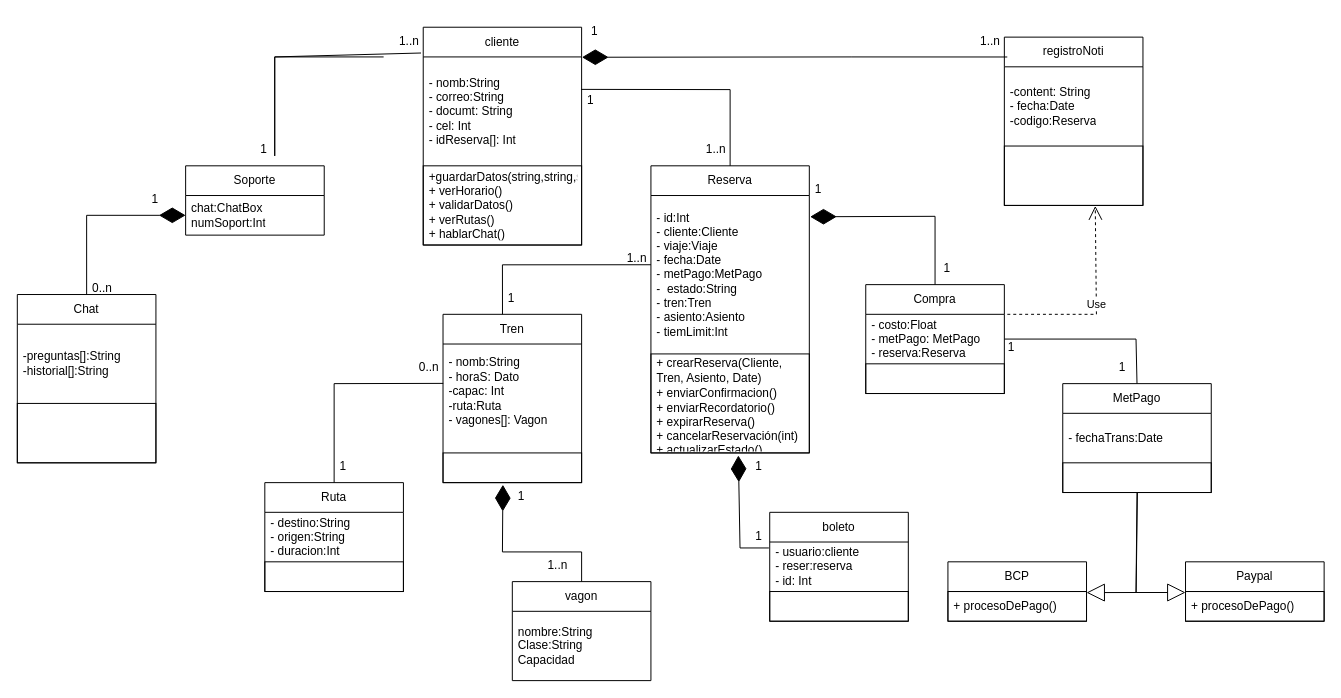
Some shapes in this 1341 by 698 pixel diagram are drawn without their labels. The centre of each missing label's shape, as x and y in pixels:
"+ actDispon ()" goes at point (512, 467).
"+ comprarBoleto(Reserva, MetPago )" goes at point (934, 378).
"+ guardarRespuesta()" goes at point (1073, 175).
"+ imprimir(reserva)" goes at point (838, 606).
"+ mostrarRuta()" goes at point (333, 576).
"+ procesoDePago(monto)" goes at point (1136, 477).
"+mostrarOp() +MostrarRes() +SeleccionarPreg()" goes at point (86, 432).
